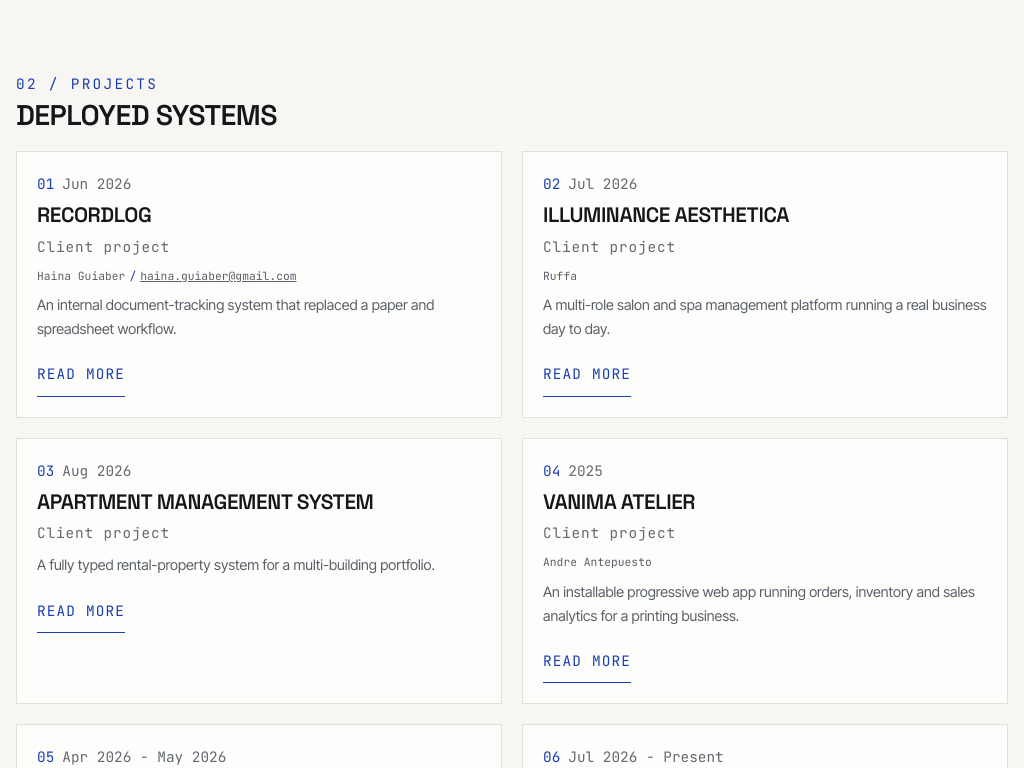
Test: CyberProjects › explains a missing demo with the shared note, once opened
Expected: the text "This project is not ready for others to see yet." is not shown
Click the button "Read more" below "Haina Guiaber" at (81, 375), box [37,353,125,397]
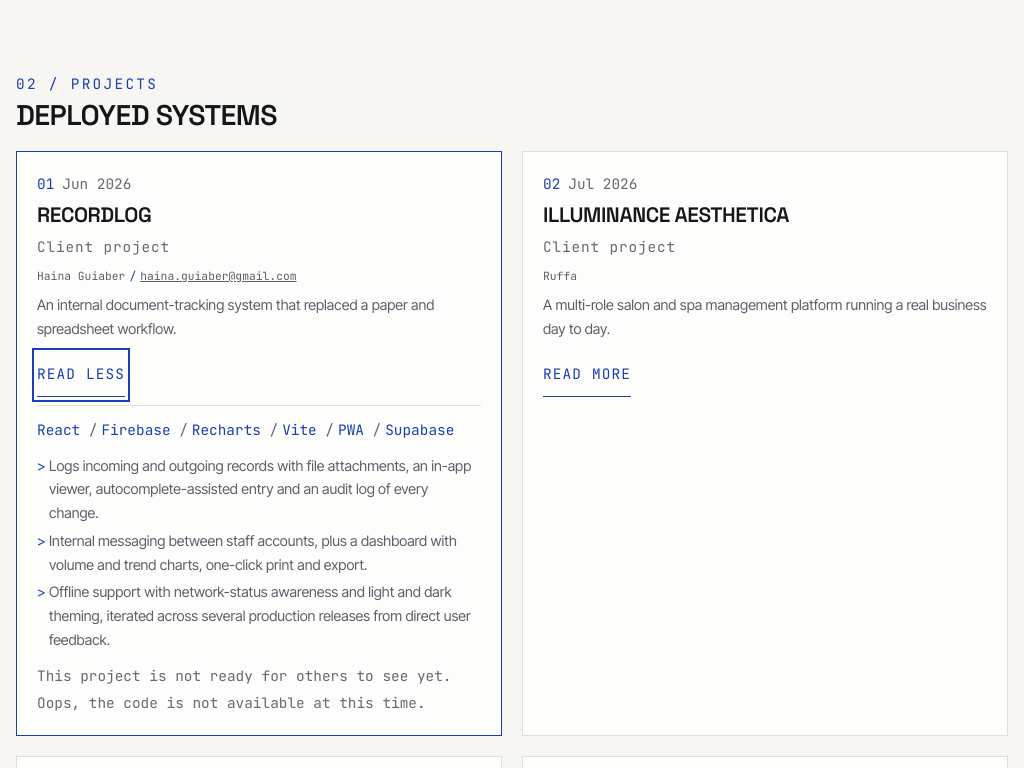
Expected: the text "This project is not ready for others to see yet." is shown, [37,664,452,688]
